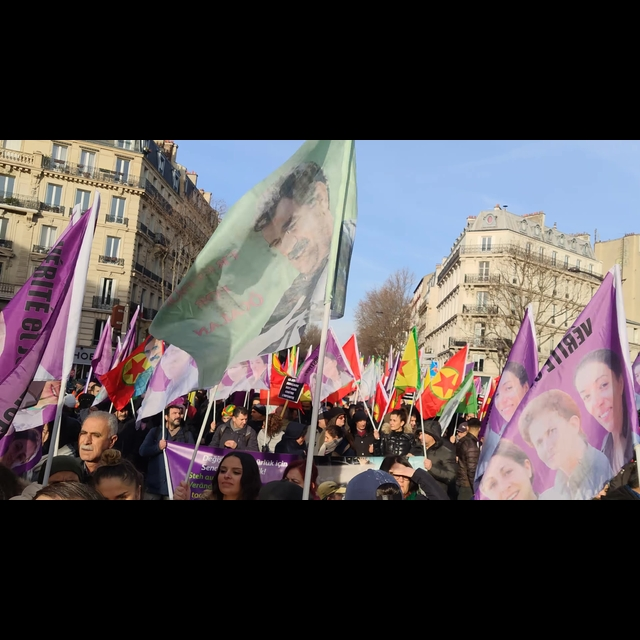PKK: (430, 366, 462, 402), (119, 353, 151, 387)
